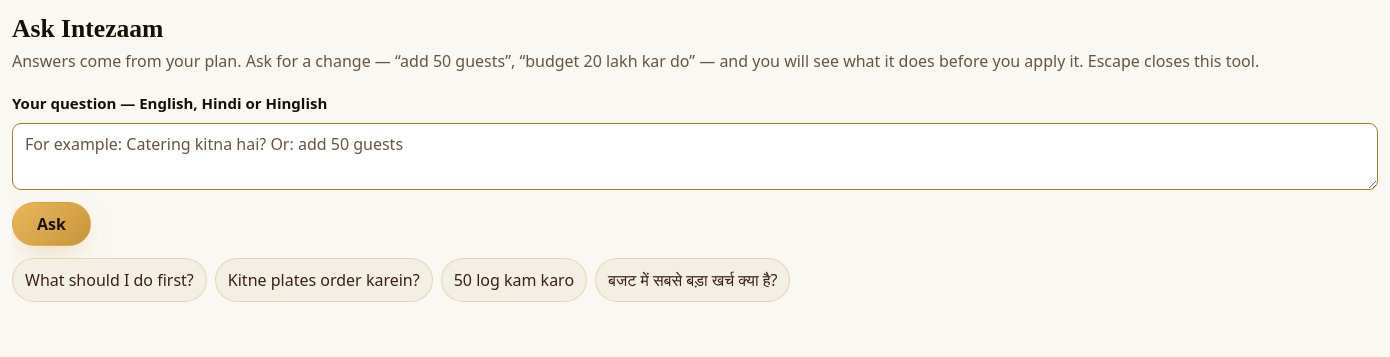
Test: AskDrawer › announces a server error and keeps the question to try again
Type "What should I do first?" into the text box labelled "Your question — English, Hindi or Hinglish" at coordinates (695, 157), box top-left (12, 123), bottom-right (1378, 190)
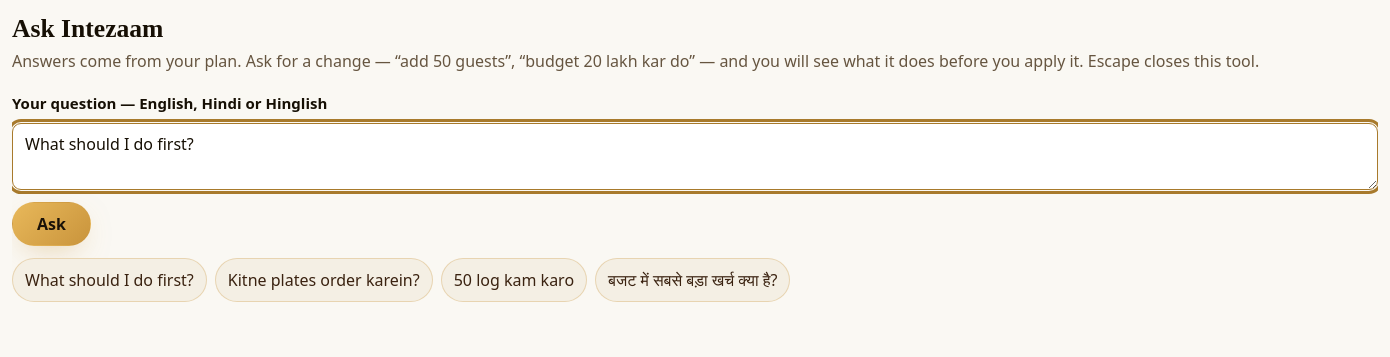
Click the button "Ask" at coordinates (51, 224), box top-left (12, 202), bottom-right (91, 246)
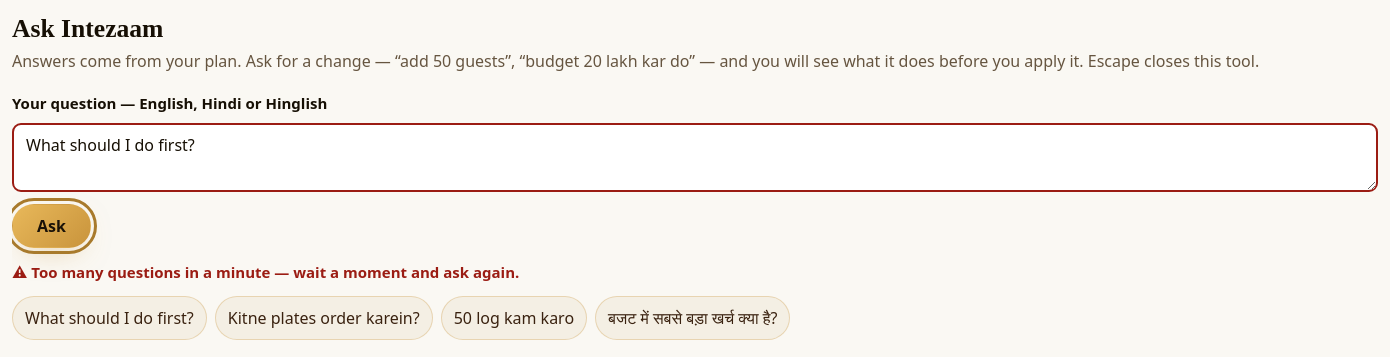
Result: the message reads "Too many questions in a minute — wait a moment and ask again." at top-left (31, 262), bottom-right (519, 282)
